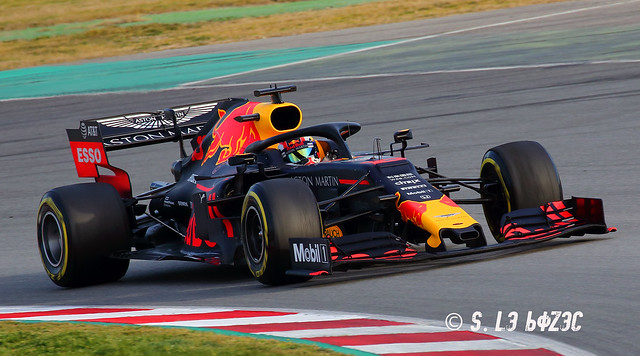F1 Car: (32, 82, 628, 299)
